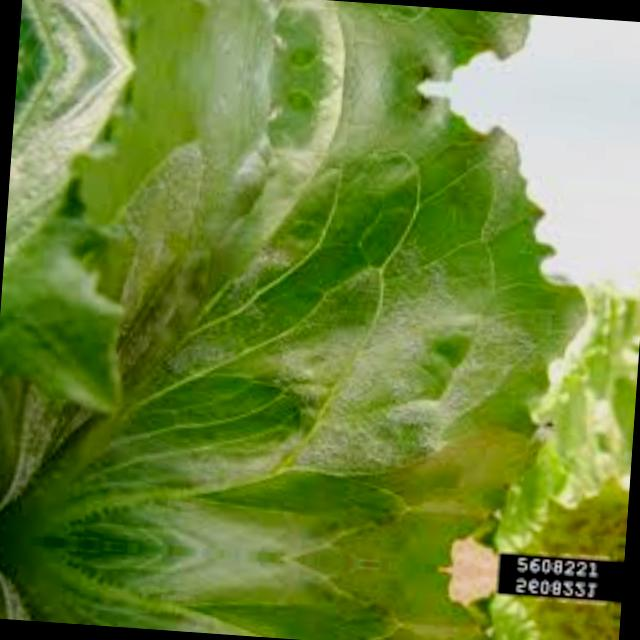Lettuce - Anthracnose: (92, 123, 540, 549), (85, 568, 508, 640), (128, 0, 549, 38)
